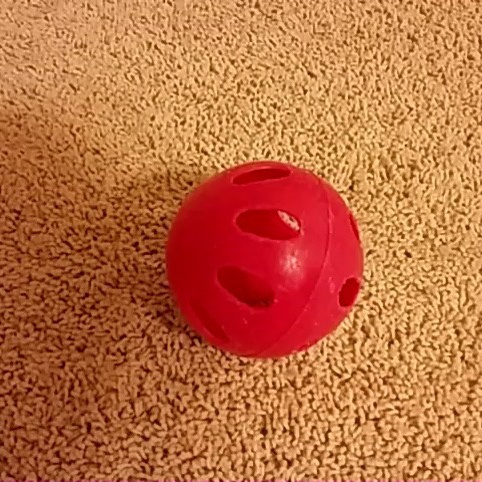ball: (158, 154, 371, 365)
